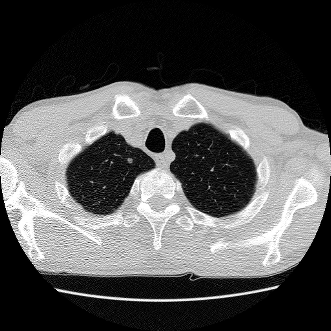nodule: (127, 157, 133, 163)
